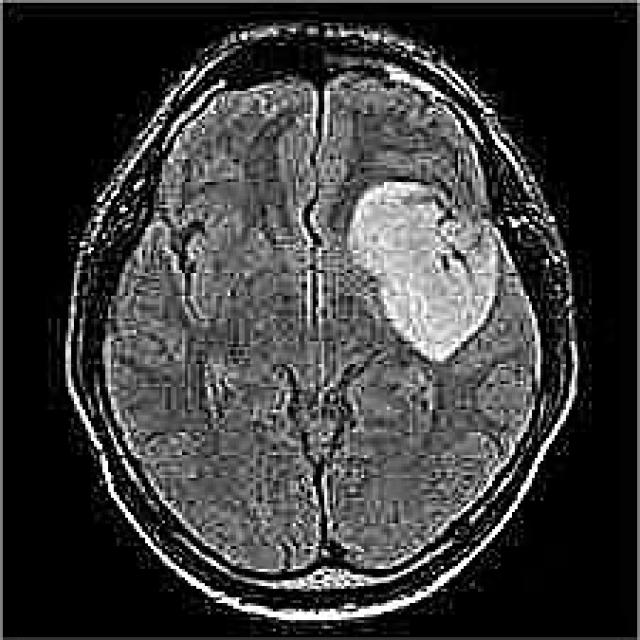Tumor-Cell: (344, 182, 514, 372)
